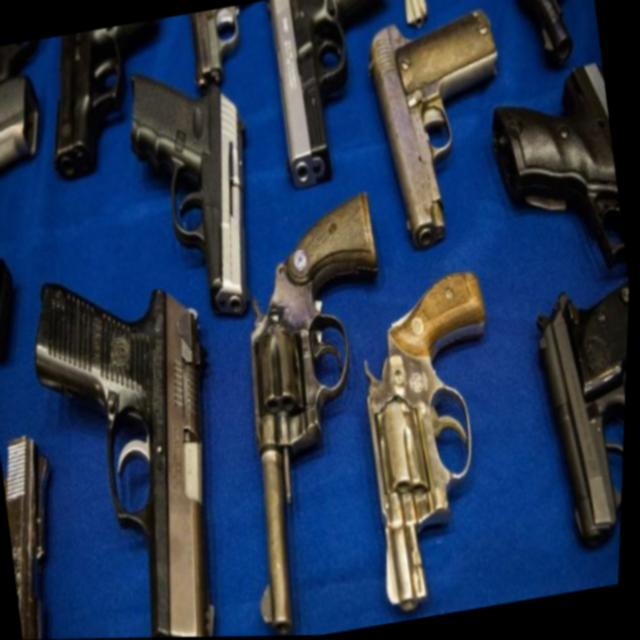weapon: (200, 188, 437, 638), (16, 255, 256, 640), (342, 268, 534, 616), (122, 48, 271, 339), (357, 5, 528, 255), (478, 60, 636, 291), (258, 0, 416, 190), (526, 278, 632, 552), (34, 18, 183, 182), (0, 429, 87, 640), (0, 70, 61, 250), (185, 2, 278, 95), (496, 0, 600, 73), (0, 266, 27, 363)
